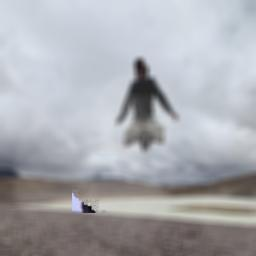Crow: (72, 103, 112, 213)
